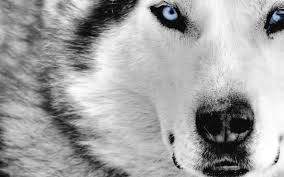Lobo: (65, 1, 281, 163)
